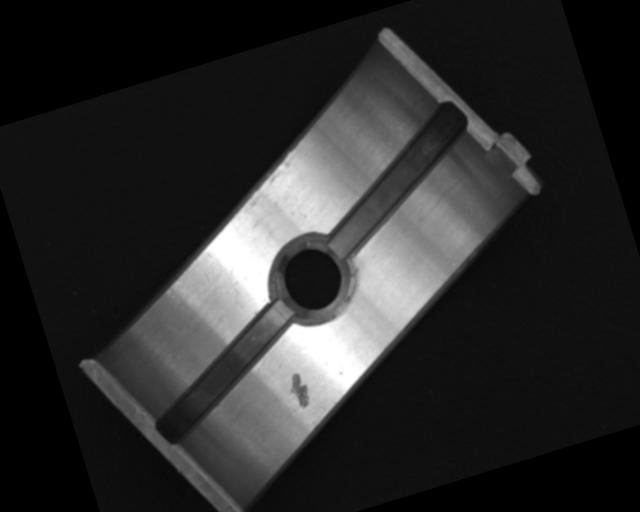bruise: (284, 370, 314, 412)
gap: (301, 100, 492, 262), (133, 299, 318, 448)
hole: (266, 230, 360, 334)
